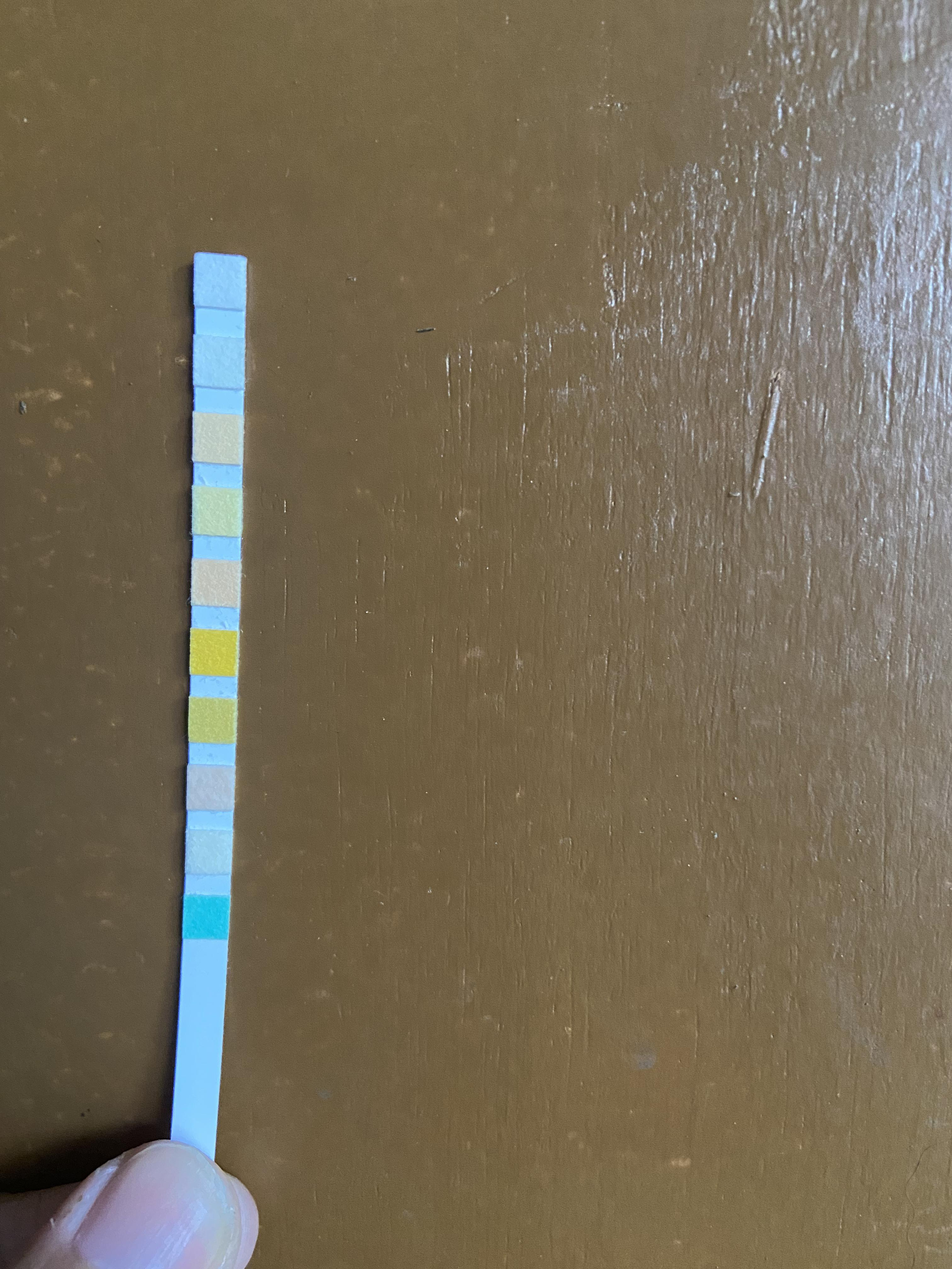Bilirubin: (185, 829, 233, 873)
Blood: (190, 628, 238, 674)
Glucose: (182, 895, 231, 938)
Ketone: (187, 766, 236, 809)
Leukocytes: (195, 255, 243, 307)
Nitrite: (194, 338, 242, 387)
Protein: (193, 486, 241, 535)
SpGravity: (188, 697, 236, 743)
Urobilinogen: (194, 414, 242, 463)
pH: (191, 560, 240, 606)
strip: (172, 256, 247, 1143)
